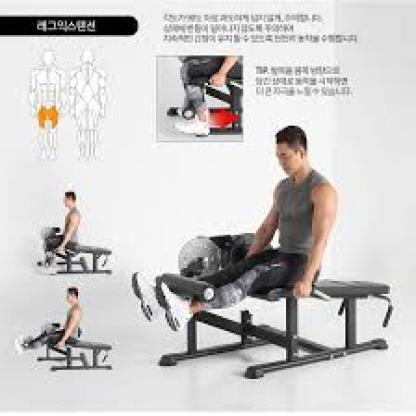leg extension: (119, 120, 416, 411)
